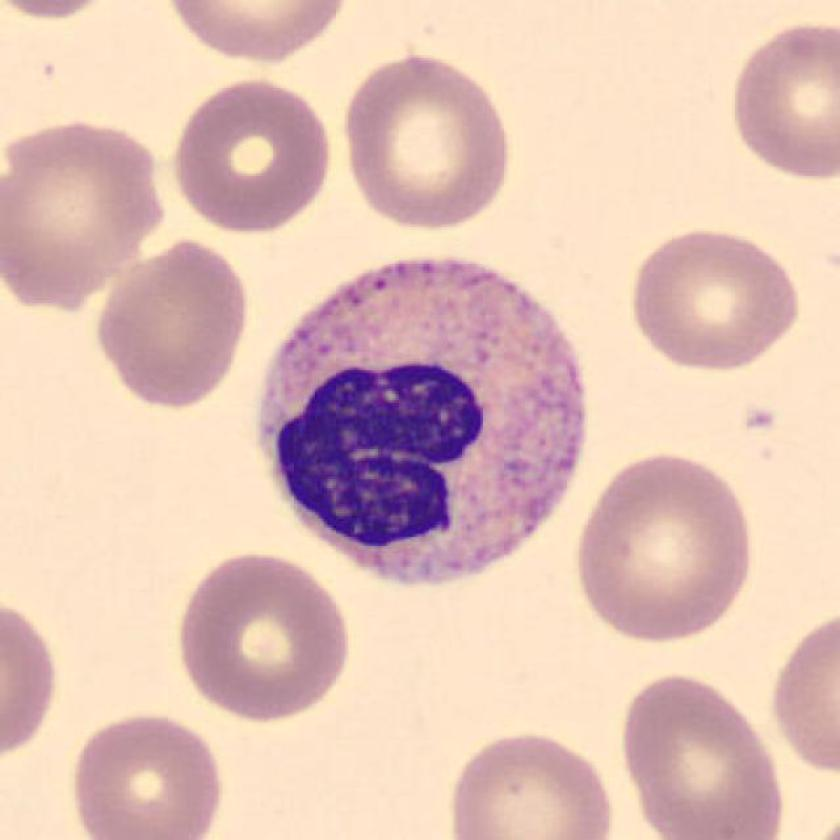neutrophil: (256, 262, 585, 585)
